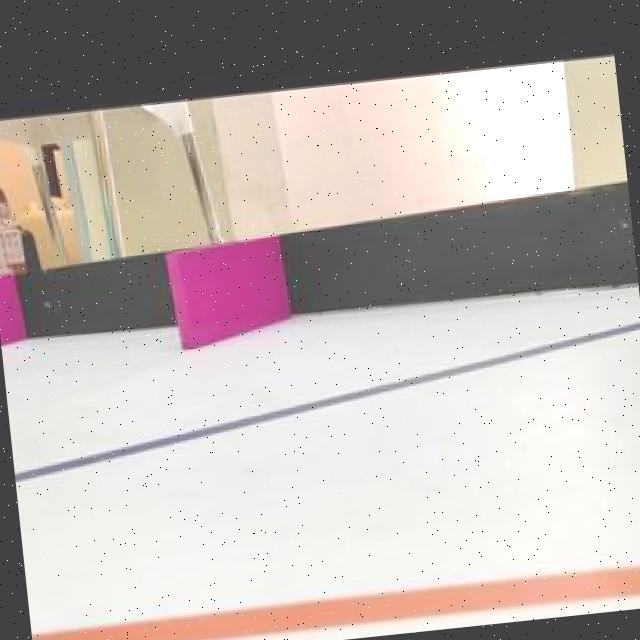xparking: (176, 242, 281, 340), (0, 279, 18, 344)
